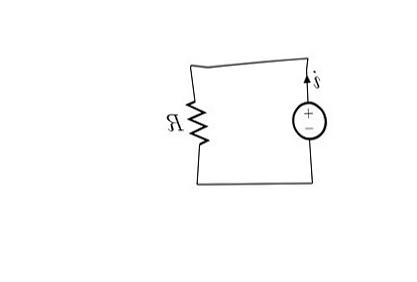Battery: (269, 90, 336, 143)
